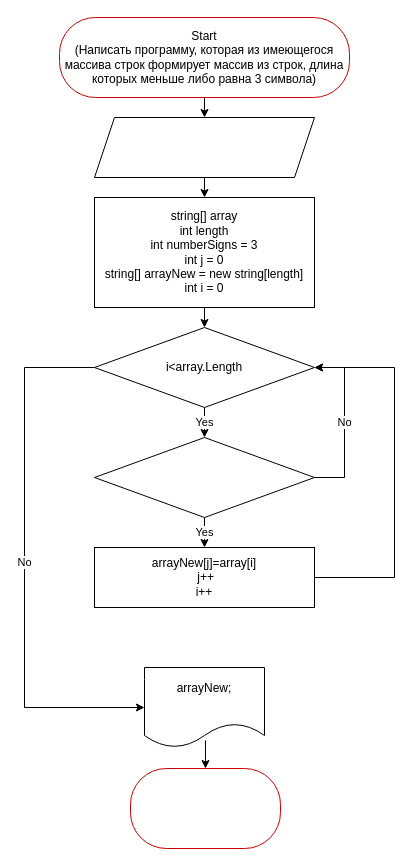
The diagram is 420 pixels wide and 866 high, and some of its shapes have lost their labels. Each missing label, with the centre of its shape:
"End" goes at point (205, 808).
"if(array[i].Length<=numberSigns)" goes at point (204, 477).
"string[] array, int length, int numberSigns" goes at point (204, 147).
